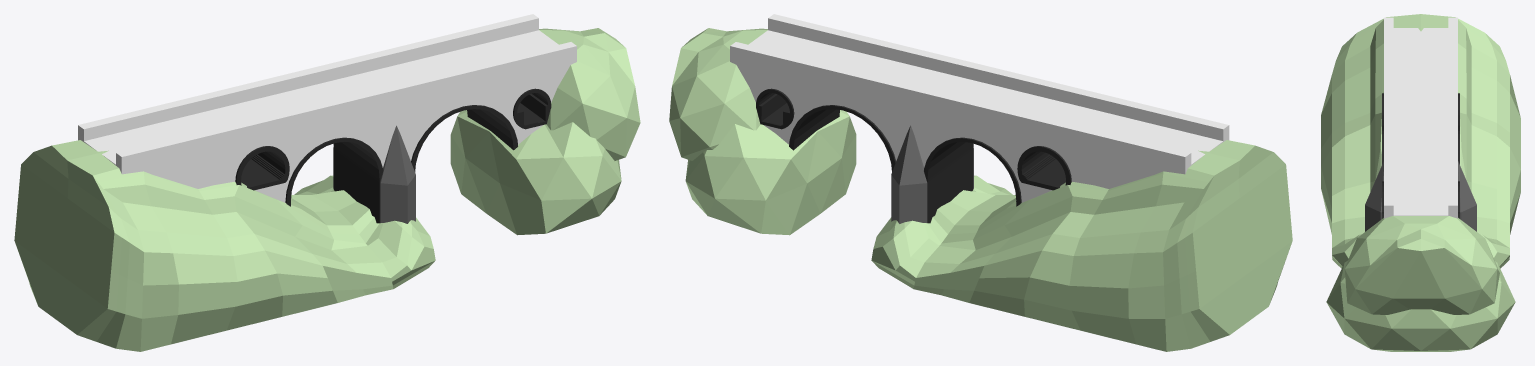
Rendered from pont_du_diable_Assemblé.glb.
3 views of the same model, side by side, from view 1: azimuth 30°, elevation 25°; view 2: azimuth 150°, elevation 25°; view 3: azimuth 270°, elevation 25° (orthographic). The views are drawn at different scales.
Parts seen in each view (by area): view 1: Icosphere.001; view 2: Icosphere.001; view 3: Icosphere.001.
Boxes of the visible parts, left/top/right/bottom form: Icosphere.001: left=14, top=14, right=640, bottom=351; Icosphere.001: left=669, top=14, right=1292, bottom=351; Icosphere.001: left=1321, top=14, right=1520, bottom=351.
Size of the model in its own units: 14.72 by 4.27 by 5.39.
